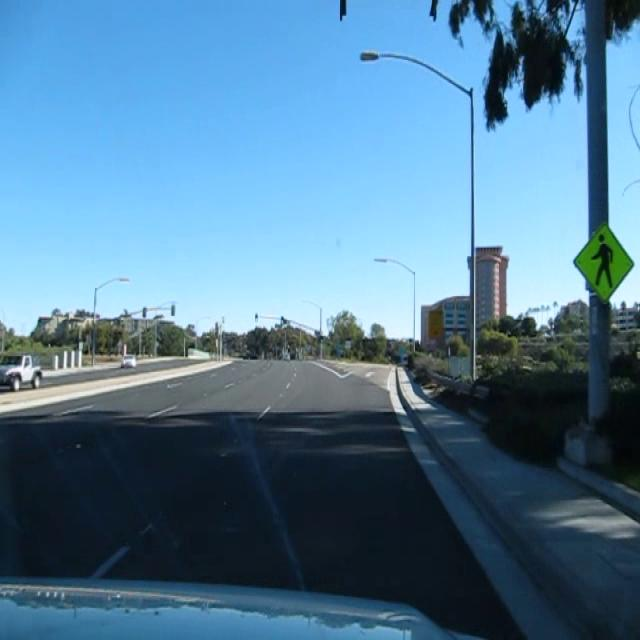pedestrianCrossing: (572, 220, 634, 303)
